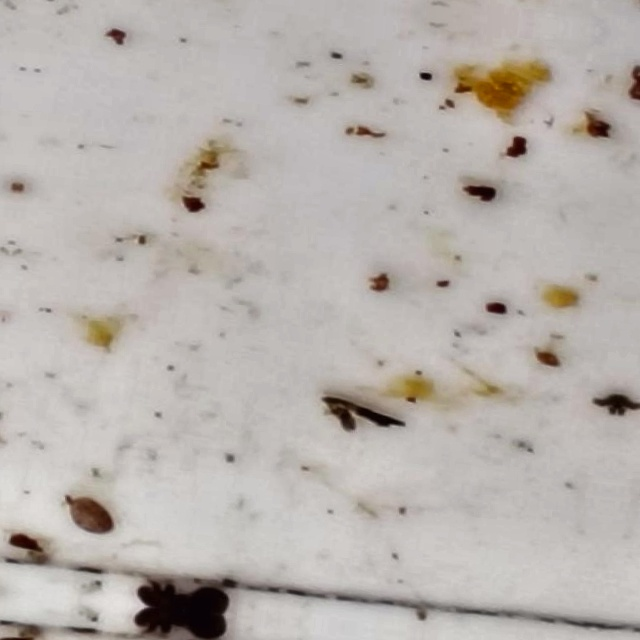varroa: (134, 575, 232, 614)
